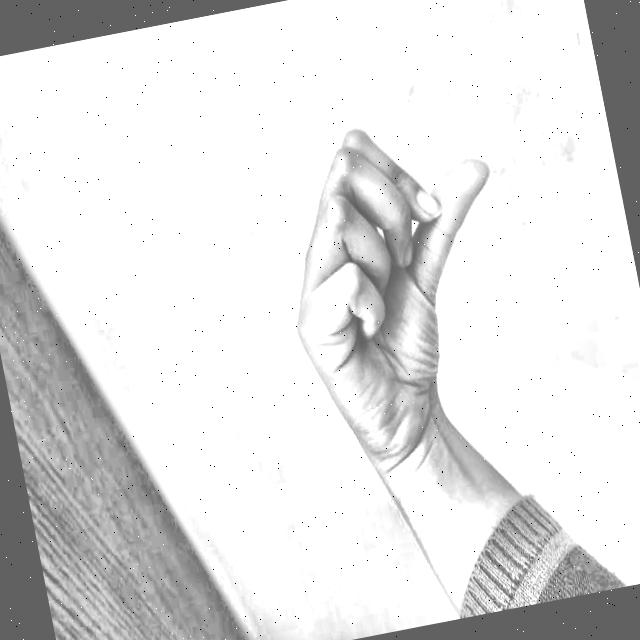Ay: (236, 59, 560, 492)
